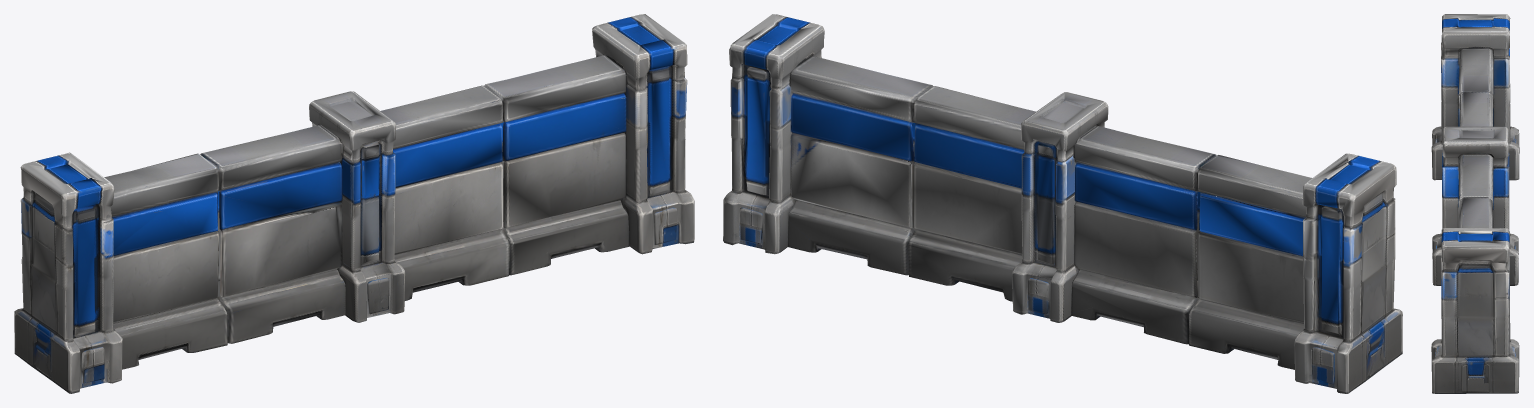
Rendered from Wall.fbx.
3 renders of one model, left to right at view 1: azimuth 30°, elevation 25°; view 2: azimuth 150°, elevation 25°; view 3: azimuth 270°, elevation 25°, orthographic. The views are drawn at different scales.
Visible parts, largest first — view 1: Base; view 2: Base; view 3: Base.
Boxes of the visible parts, x1,y1,x2,y2 form: Base: (14, 14, 694, 393); Base: (723, 14, 1402, 393); Base: (1431, 14, 1519, 393).
Size of the model in its own units: 1 by 0.2993 by 0.1601.
1 material, 1 textured.
